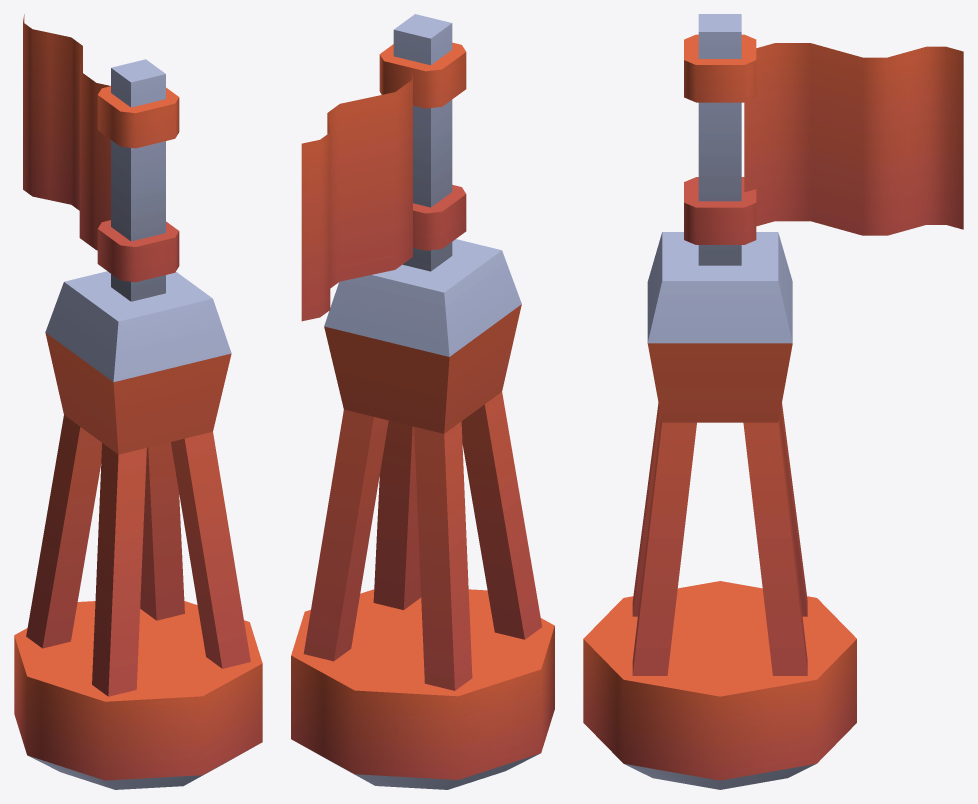
File: buoy-flag.glb
3 renders of one model, left to right at view 1: azimuth 30°, elevation 25°; view 2: azimuth 150°, elevation 25°; view 3: azimuth 270°, elevation 25°, orthographic. The views are drawn at different scales.
Visible parts, largest first — view 1: buoy-flag; view 2: buoy-flag; view 3: buoy-flag.
Part boxes in pixels (x1,y1,x2,y2): buoy-flag: [14, 14, 262, 789]; buoy-flag: [291, 14, 554, 789]; buoy-flag: [583, 14, 963, 789].
Bounding box in the file's own units: 0.9283 × 2.72 × 1.29.
Materials: 1 (1 with a texture image).
